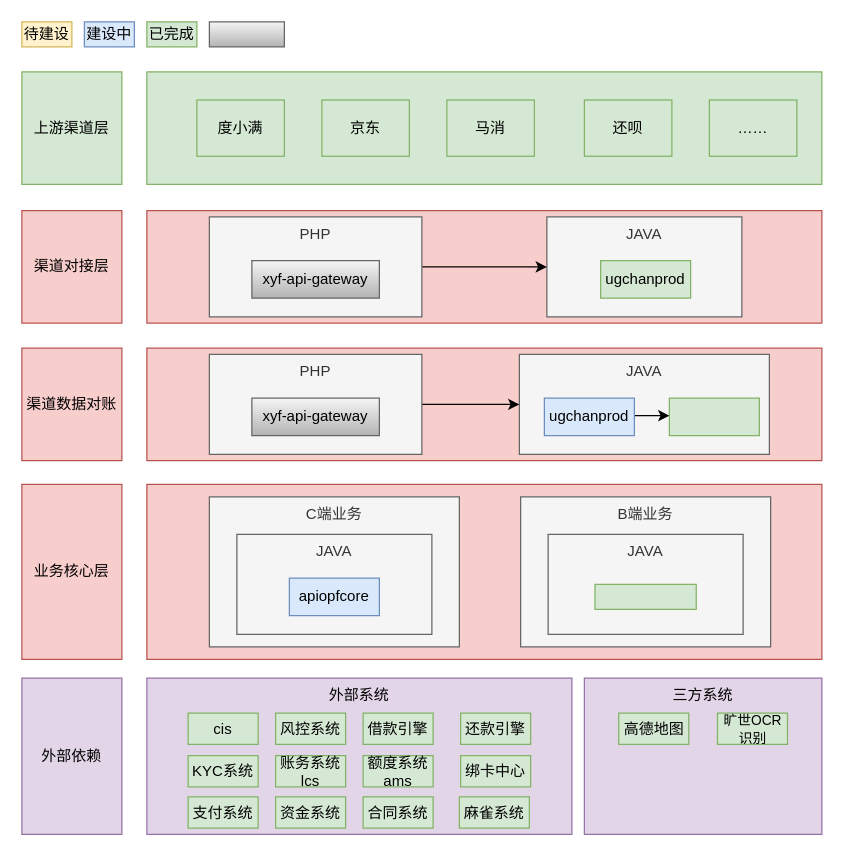
This 844x856 diagram has some shape labels left out. The centre of each missing label's shape, as x and y in pixels:
"ugchanmng" belongs at [645,596].
"ugchanrecon" belongs at [713,416].
"暂停维护" belongs at [246,34].
